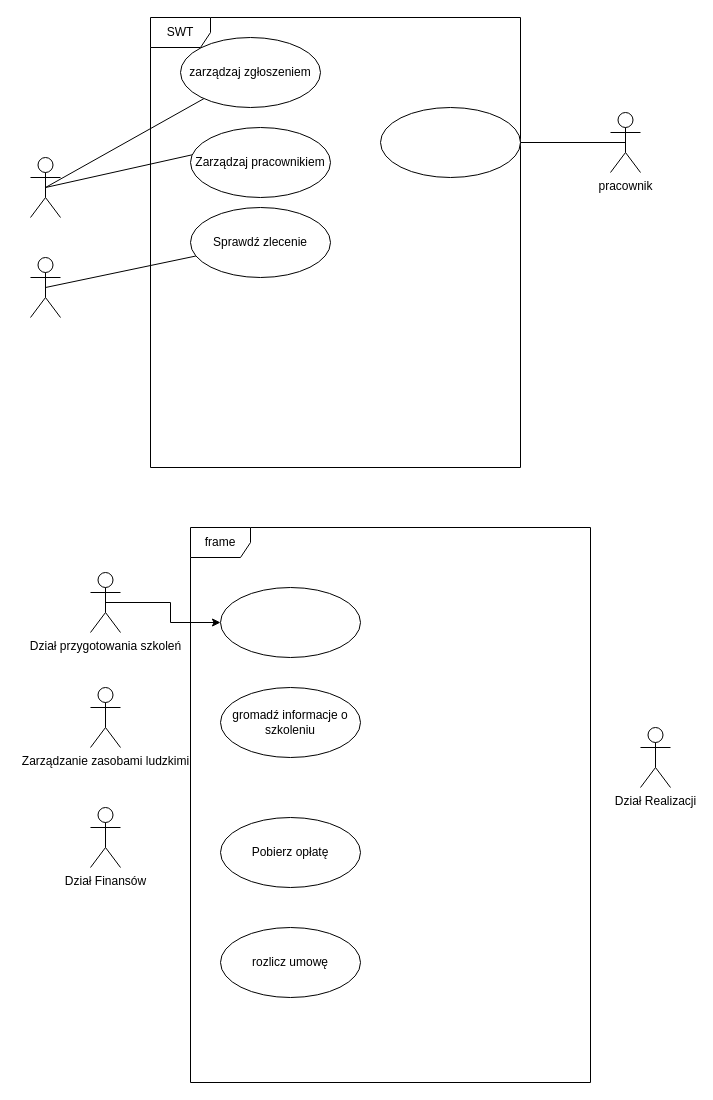
Image size: 713x1100. Some labels were removed from this diagram. Each missing label, with the centre of its shape:
specjalista: pixel 45 287
Szef: pixel 45 187
zarządzaj szkoleniem: pixel 290 622
Zgłoś Problem: pixel 450 142
